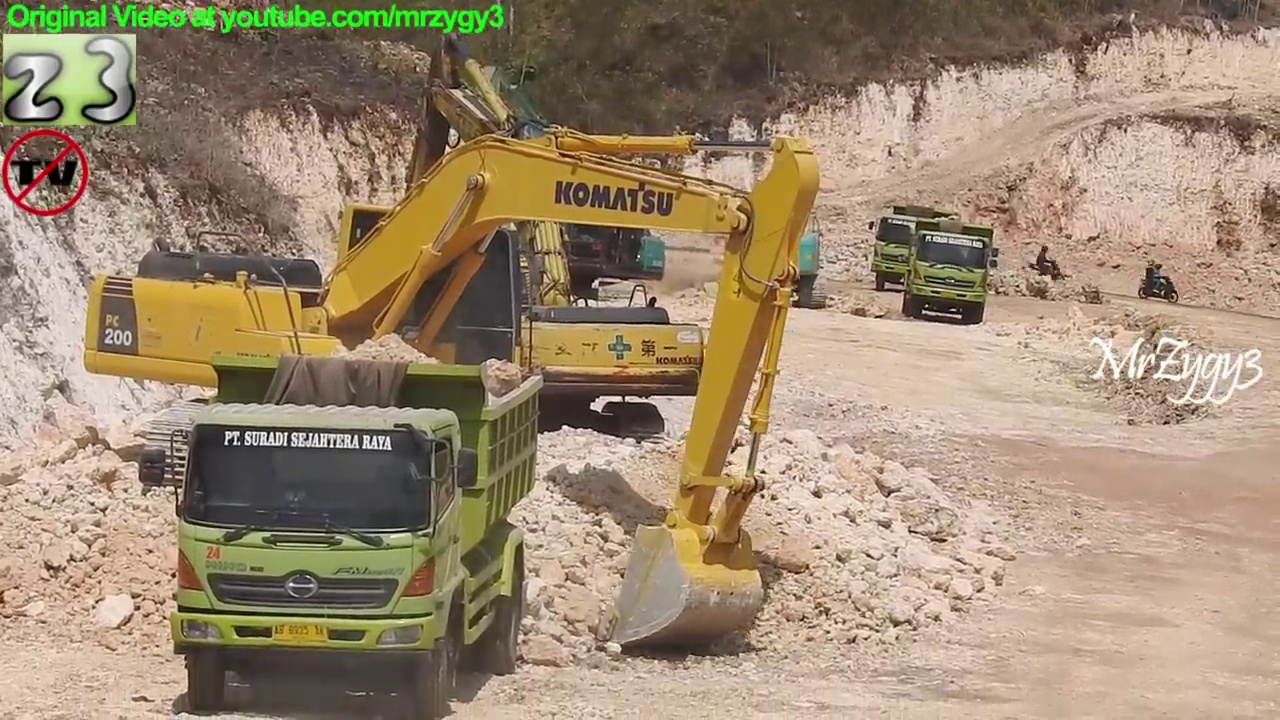excavator: (81, 120, 824, 657), (340, 36, 707, 461), (431, 61, 668, 313), (731, 152, 830, 306)
truck: (140, 345, 545, 720), (900, 219, 1002, 326), (867, 200, 967, 298)
